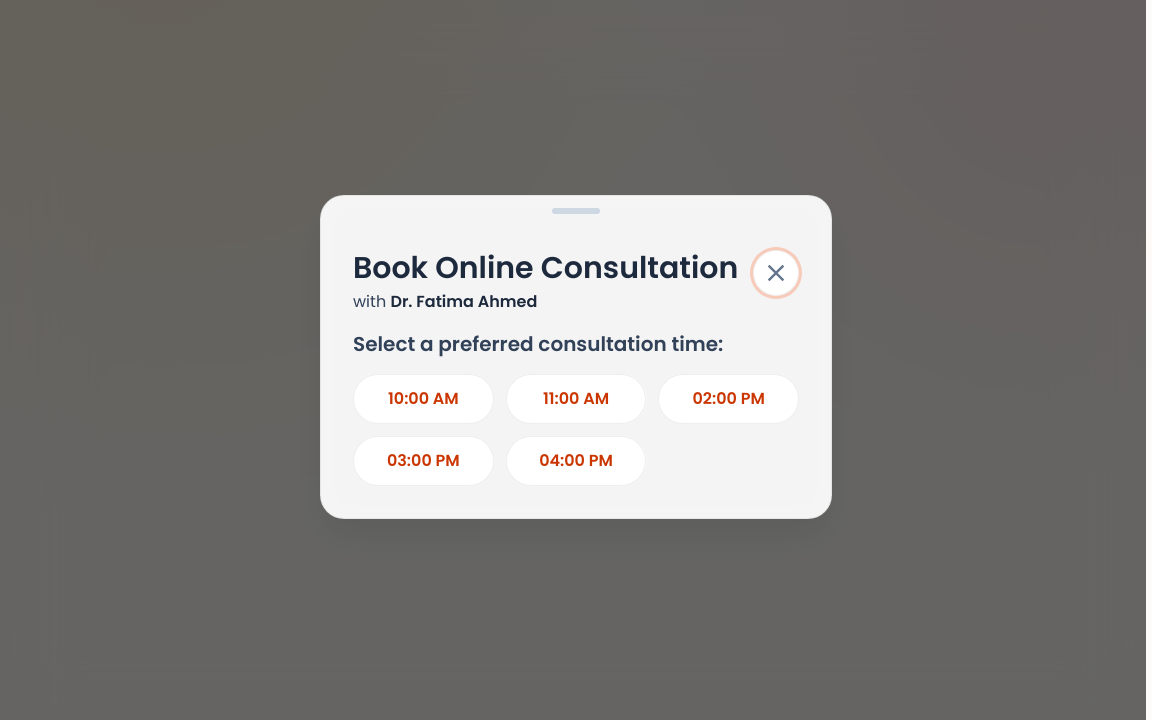
Test: VetBookingModal › advances to Step 2 upon selecting a time slot and allows returning to Step 1
Click the button "10:00 AM".
click(423, 399)  # box [353, 374, 494, 424]
Wait 300 ms
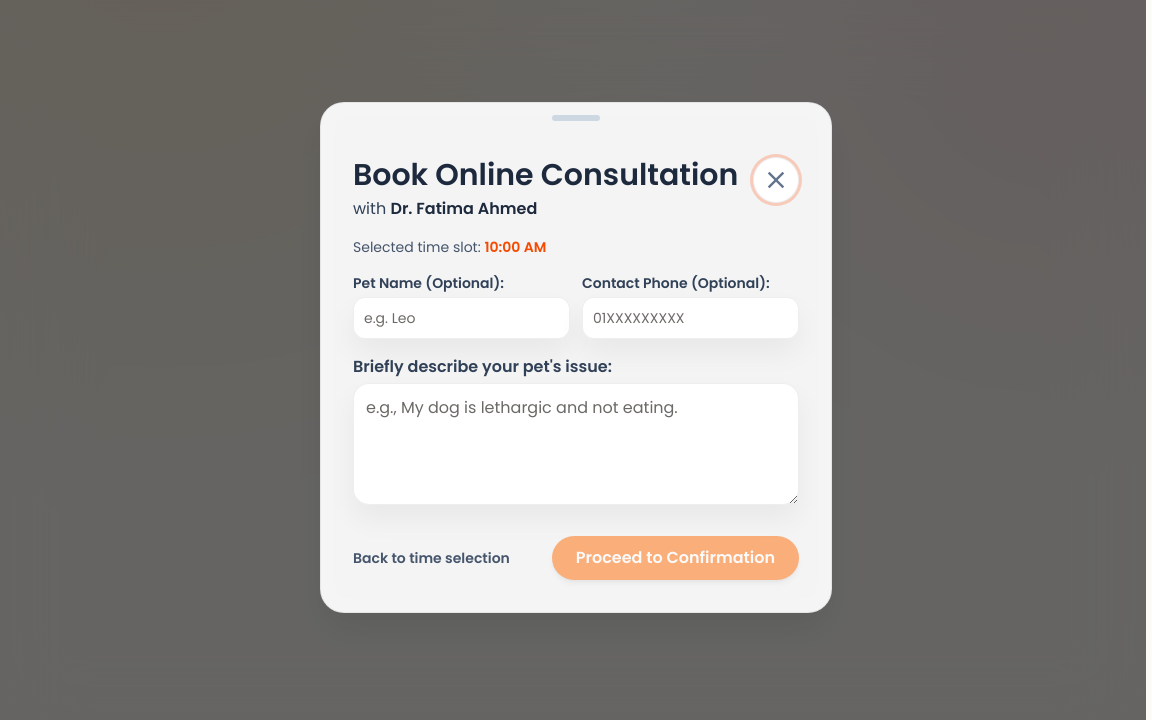
Check: the text "Selected time slot: 10:00 AM" is shown, box [353, 236, 546, 256]
Check: the text box labelled "Briefly describe your pet's issue:" is shown, box [353, 382, 799, 504]
Check: the button "Proceed to Confirmation" is disabled, box [552, 536, 799, 580]
Note: Back to time selection
Click the button "Back to time selection".
click(431, 558)  # box [353, 548, 510, 568]
Wait 300 ms
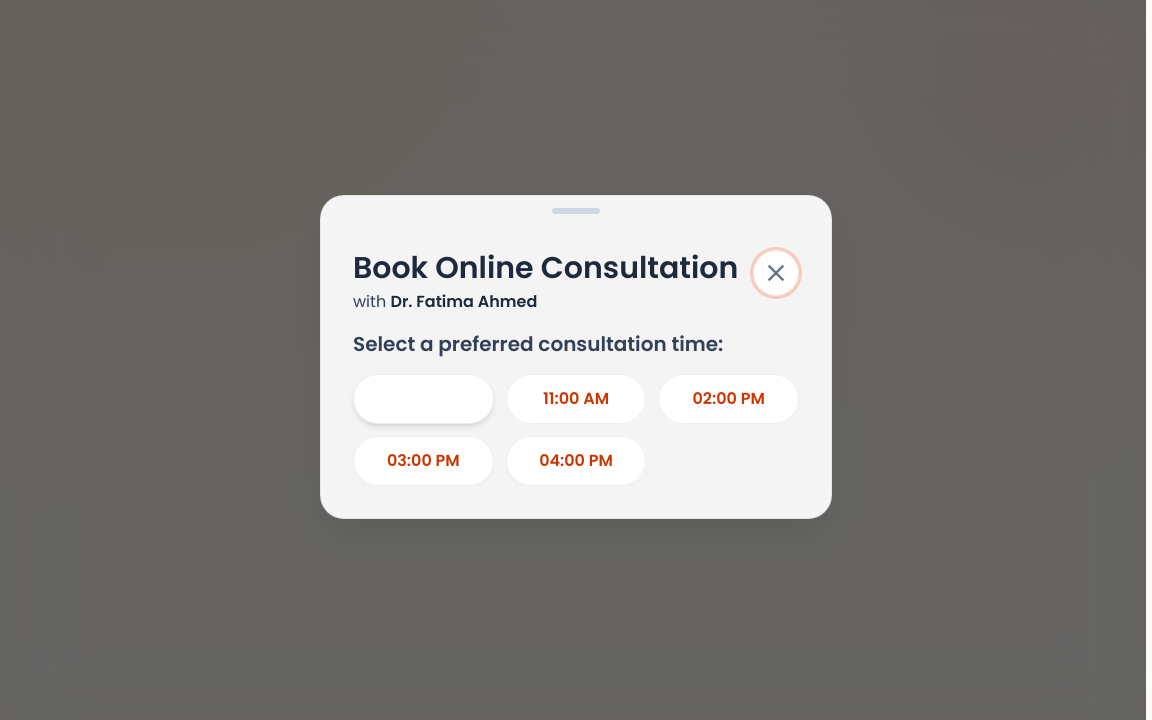
Check: the heading "Select a preferred consultation time:" is shown, box [353, 330, 723, 358]
